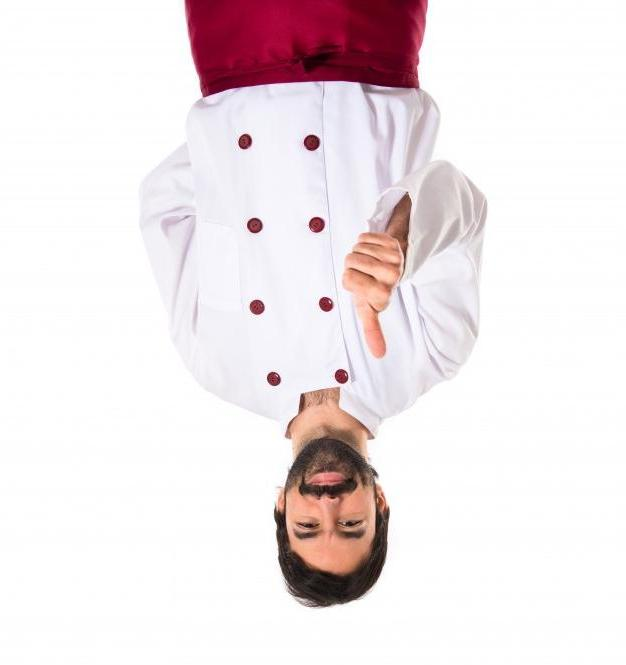thumbsdown: (340, 232, 404, 358)
